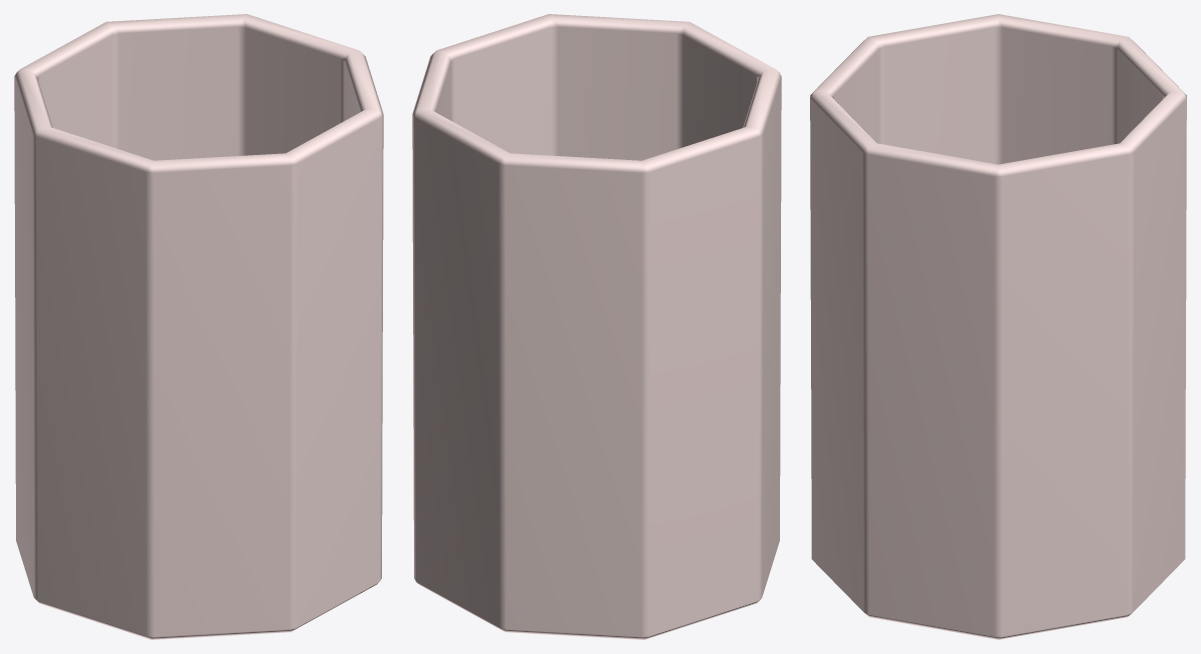
The model's file is Town_18_Glass_1.glb.
3 renders of one model, left to right at view 1: azimuth 30°, elevation 25°; view 2: azimuth 150°, elevation 25°; view 3: azimuth 270°, elevation 25°, orthographic.
Visible parts, largest first — view 1: Town_18_Glass_1; view 2: Town_18_Glass_1; view 3: Town_18_Glass_1.
Boxes of the visible parts, x1,y1,x2,y2 form: Town_18_Glass_1: [14, 14, 383, 639]; Town_18_Glass_1: [412, 14, 781, 639]; Town_18_Glass_1: [810, 14, 1186, 639].
Bounding box in the file's own units: 0.116 × 0.16 × 0.116.
1 material, 1 textured.
